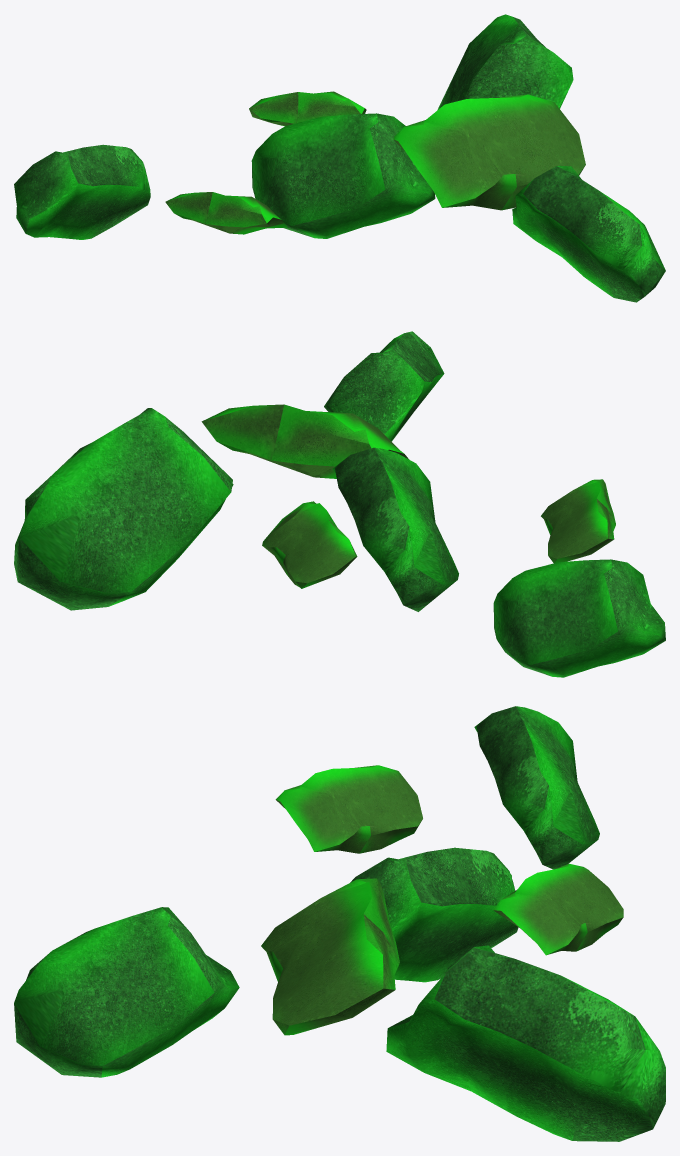
Rendered from cluster1.glb.
3 views of the same model, one above another, from view 1: azimuth 30°, elevation 25°; view 2: azimuth 150°, elevation 25°; view 3: azimuth 270°, elevation 25° (orthographic). The views are drawn at different scales.
Parts seen in each view (by area): view 1: Aset_nature_rock_M_wgoubaaaw_LOD5_3, Aset_nature_rock_S_vd5rfbr_LOD5_3, Aset_nature_rock_M_wgoubaaaw_LOD5_2, Aset_nature_rock_M_wgoubaaaw_LOD5_4, Aset_nature_rock_M_wgoubaaaw_LOD5_5, Aset_nature_rock_S_vd5rfbr_LOD5_2, Aset_nature_rock_S_vd5rfbr_LOD5_4; view 2: Aset_nature_rock_M_wgoubaaaw_LOD5_5, Aset_nature_rock_M_wgoubaaaw_LOD5_4, Aset_nature_rock_M_wgoubaaaw_LOD5_3, Aset_nature_rock_S_vd5rfbr_LOD5_3, Aset_nature_rock_M_wgoubaaaw_LOD5_2, Aset_nature_rock_S_vd5rfbr_LOD5_4, Aset_nature_rock_S_vd5rfbr_LOD5_2; view 3: Aset_nature_rock_M_wgoubaaaw_LOD5_5, Aset_nature_rock_M_wgoubaaaw_LOD5_2, Aset_nature_rock_S_vd5rfbr_LOD5_3, Aset_nature_rock_M_wgoubaaaw_LOD5_3, Aset_nature_rock_M_wgoubaaaw_LOD5_4, Aset_nature_rock_S_vd5rfbr_LOD5_2, Aset_nature_rock_S_vd5rfbr_LOD5_4.
Part boxes in pixels (box(x1,y1,x2,y2)): Aset_nature_rock_M_wgoubaaaw_LOD5_3: box(251, 113, 435, 238); Aset_nature_rock_S_vd5rfbr_LOD5_3: box(393, 94, 585, 210); Aset_nature_rock_M_wgoubaaaw_LOD5_2: box(512, 165, 665, 302); Aset_nature_rock_M_wgoubaaaw_LOD5_4: box(14, 144, 150, 239); Aset_nature_rock_M_wgoubaaaw_LOD5_5: box(437, 14, 573, 109); Aset_nature_rock_S_vd5rfbr_LOD5_2: box(165, 192, 287, 234); Aset_nature_rock_S_vd5rfbr_LOD5_4: box(249, 91, 366, 126); Aset_nature_rock_M_wgoubaaaw_LOD5_5: box(14, 408, 233, 610); Aset_nature_rock_M_wgoubaaaw_LOD5_4: box(493, 559, 665, 677); Aset_nature_rock_M_wgoubaaaw_LOD5_3: box(332, 447, 458, 611); Aset_nature_rock_S_vd5rfbr_LOD5_3: box(201, 404, 409, 478); Aset_nature_rock_M_wgoubaaaw_LOD5_2: box(324, 331, 444, 441); Aset_nature_rock_S_vd5rfbr_LOD5_4: box(262, 501, 357, 588); Aset_nature_rock_S_vd5rfbr_LOD5_2: box(541, 479, 615, 563); Aset_nature_rock_M_wgoubaaaw_LOD5_5: box(386, 945, 665, 1141); Aset_nature_rock_M_wgoubaaaw_LOD5_2: box(14, 907, 239, 1077); Aset_nature_rock_S_vd5rfbr_LOD5_3: box(261, 878, 399, 1035); Aset_nature_rock_M_wgoubaaaw_LOD5_3: box(350, 847, 518, 982); Aset_nature_rock_M_wgoubaaaw_LOD5_4: box(474, 706, 599, 869); Aset_nature_rock_S_vd5rfbr_LOD5_2: box(275, 765, 422, 853); Aset_nature_rock_S_vd5rfbr_LOD5_4: box(493, 863, 623, 955).
Size of what is drawn, in the model's own units: 2.32 by 0.6211 by 1.91.
2 materials, 2 textured.
